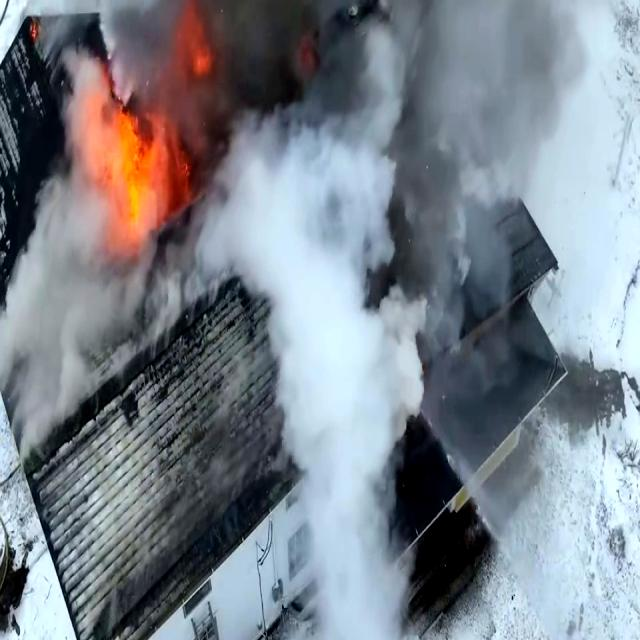fire: (75, 60, 205, 275)
smoke: (236, 0, 534, 180)
